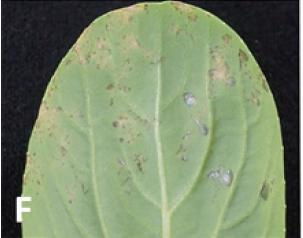Bok-Choy-Diseased: (39, 5, 281, 238)
